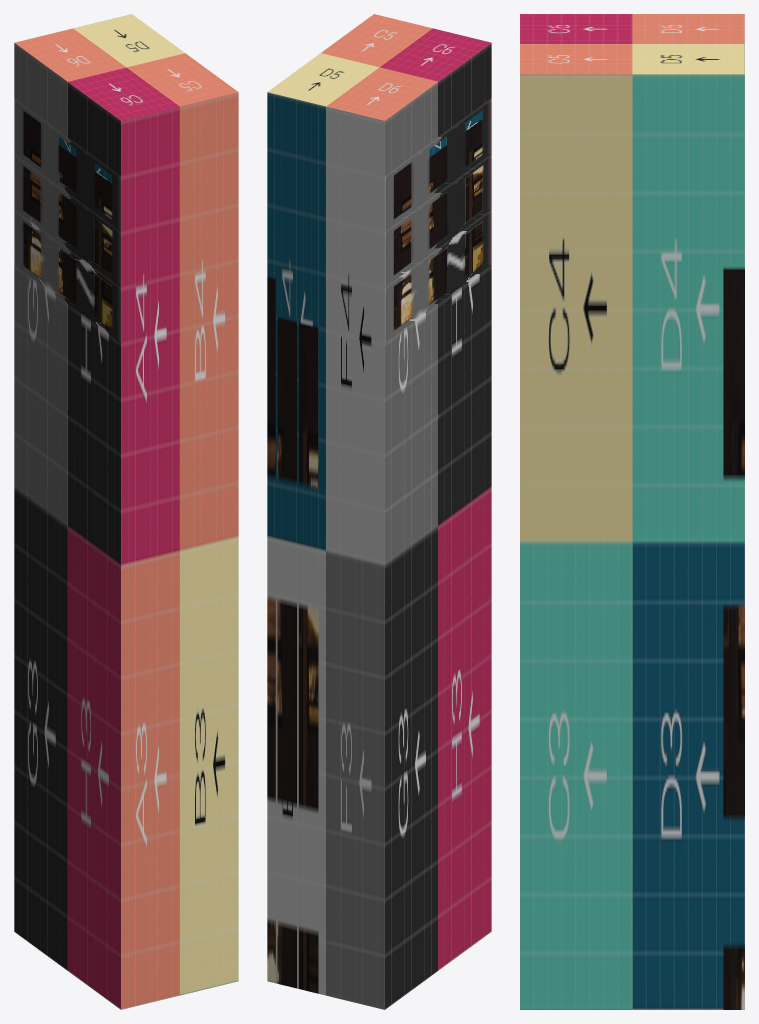
The model's file is simple_skyscraper3.glb.
The picture shows the model from 3 angles, left to right: view 1: azimuth 30°, elevation 25°; view 2: azimuth 150°, elevation 25°; view 3: azimuth 270°, elevation 25°; orthographic projection. The views are drawn at different scales.
Visible parts, largest first — view 1: Cube.002; view 2: Cube.002; view 3: Cube.002.
Part boxes in pixels (<box>): Cube.002: <box>14,14,238,1009</box>; Cube.002: <box>267,14,491,1009</box>; Cube.002: <box>520,14,744,1009</box>.
Size of the model in its own units: 0.5823 by 4.21 by 0.9162.
1 material, 1 textured.
